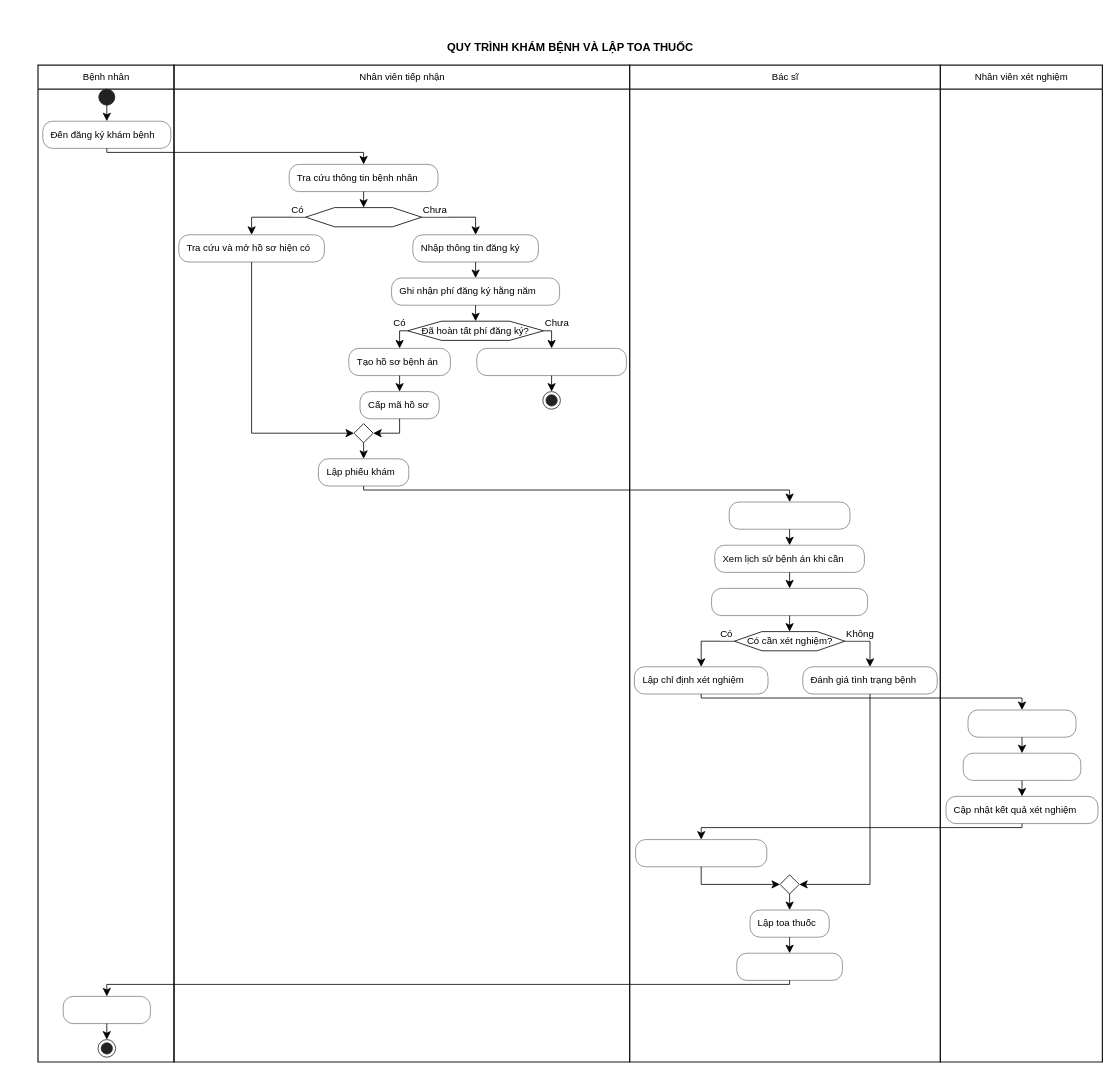
Some shapes in this 1117 by 1076 pixel diagram are drawn without their labels. The shapes that lost their labels are listed below. From the top down, each one's centre as x and y in pixels, then its label:
At [363,217]: "Đã có hồ sơ bệnh án?".
At [551,361]: "Thông báo chưa đủ điều kiện".
At [789,515]: "Tiếp nhận phiếu khám".
At [789,601]: "Khám và ghi nhận triệu chứng".
At [1021,723]: "Tiếp nhận chỉ định".
At [1022,766]: "Thực hiện xét nghiệm".
At [701,853]: "Xem và đánh giá kết quả".
At [789,966]: "Xác nhận toa thuốc".
At [106,1009]: "Nhận toa thuốc".
